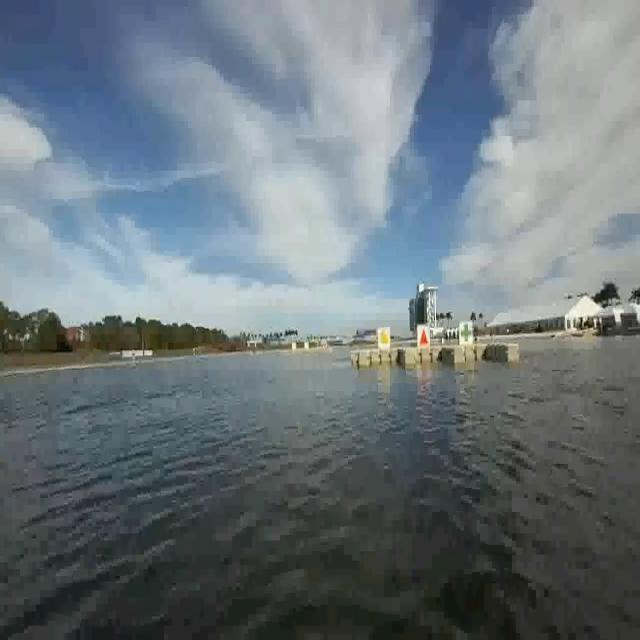blue-cross: (461, 323, 474, 348)
red-dot: (418, 325, 430, 345)
yellow-duck: (376, 326, 389, 347)
